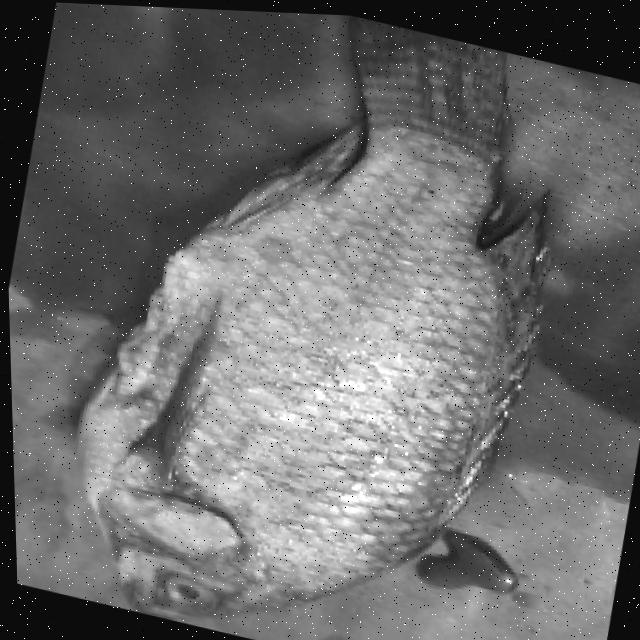Non-Fresh: (16, 1, 621, 640)
